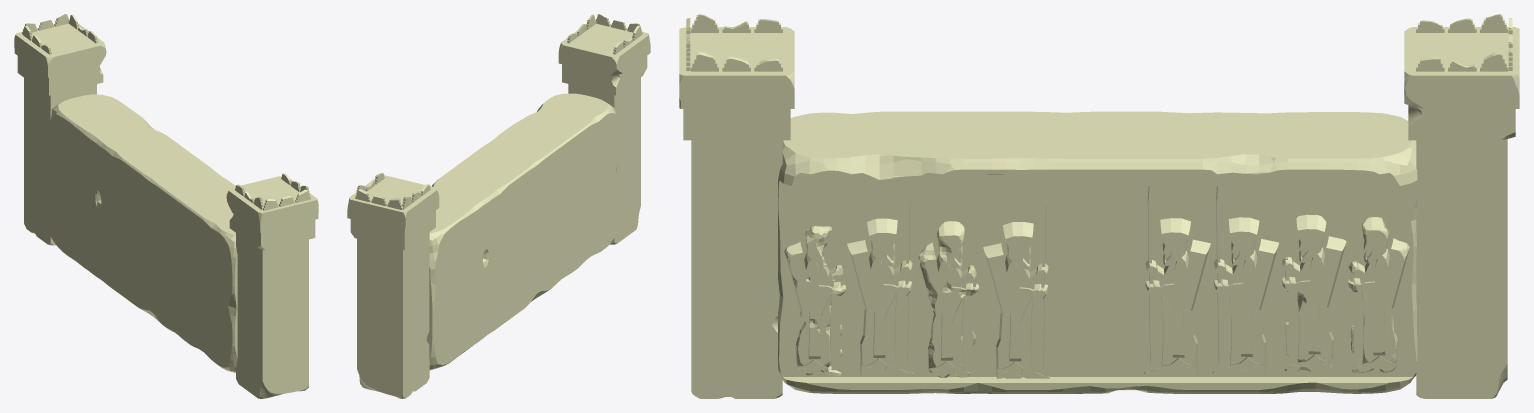
The model's file is SoldadosEnFila.fbx.
The picture shows the model from 3 angles, left to right: view 1: azimuth 30°, elevation 25°; view 2: azimuth 150°, elevation 25°; view 3: azimuth 270°, elevation 25°; orthographic projection. The views are drawn at different scales.
Parts seen in each view (by area): view 1: Cube.001_dmg.001; view 2: Cube.001_dmg.001; view 3: Cube.001_dmg.001.
Boxes of the visible parts, box(x1,y1,x2,y2) form: Cube.001_dmg.001: box(14, 14, 318, 398); Cube.001_dmg.001: box(347, 14, 650, 398); Cube.001_dmg.001: box(679, 14, 1519, 398).
Size of the model in its own units: 241 by 739 by 1625.
